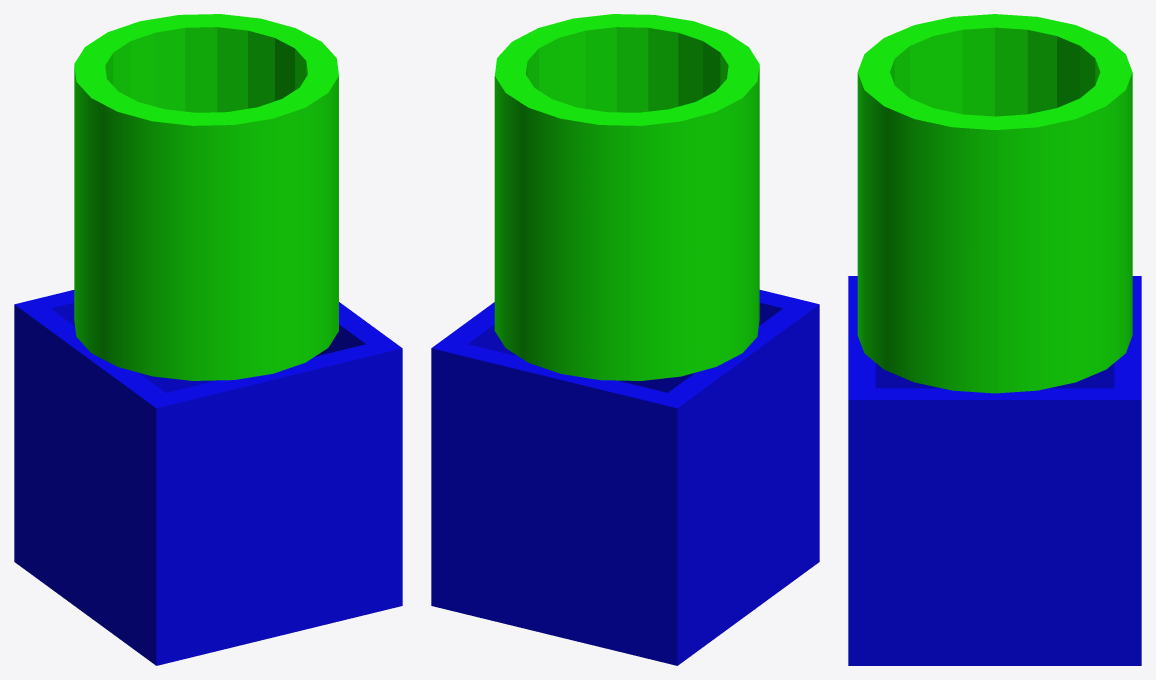
Rendered from Obstacles3.glb.
3 renders of one model, left to right at view 1: azimuth 30°, elevation 25°; view 2: azimuth 150°, elevation 25°; view 3: azimuth 270°, elevation 25°, orthographic. The views are drawn at different scales.
Parts seen in each view (by area): view 1: obstacle_3; view 2: obstacle_3; view 3: obstacle_3.
Part boxes in pixels (box(x1,y1,x2,y2)): obstacle_3: box(14, 14, 402, 665); obstacle_3: box(431, 14, 819, 665); obstacle_3: box(848, 14, 1141, 665).
Size of the model in its own units: 0.0869 by 0.1735 by 0.0869.
Materials: 2 (2 with a texture image).
